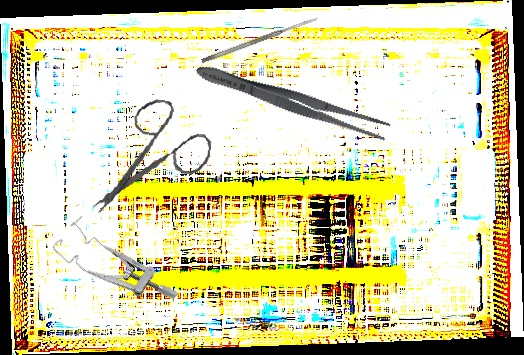Dressing Forceps: (192, 57, 393, 145)
Iris Scissors: (91, 92, 217, 229)
Spatula Surgical: (200, 16, 319, 64)
Speculum: (49, 205, 181, 334)
